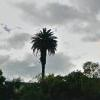Palm tree: (29, 21, 58, 71)
